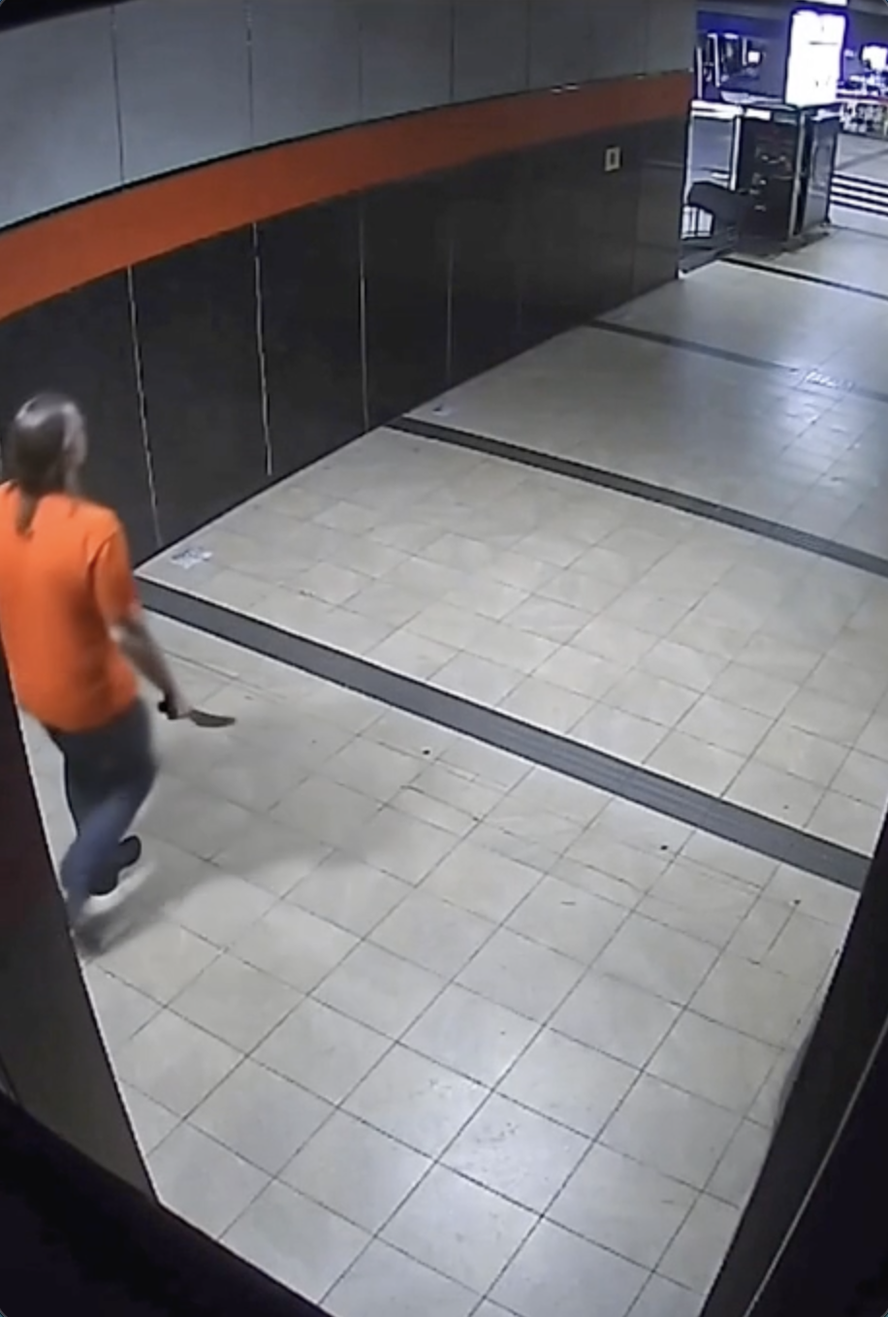Heavy Gun: (3, 388, 184, 919)
Knife: (155, 683, 237, 733)
